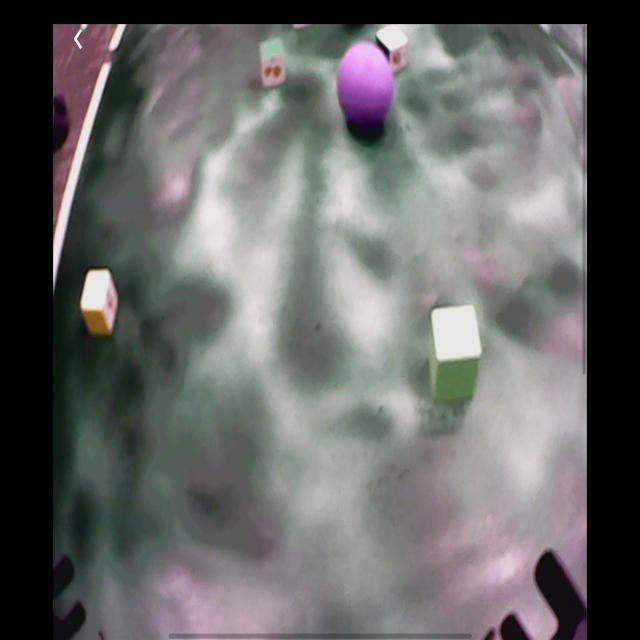ball: (338, 43, 393, 128)
